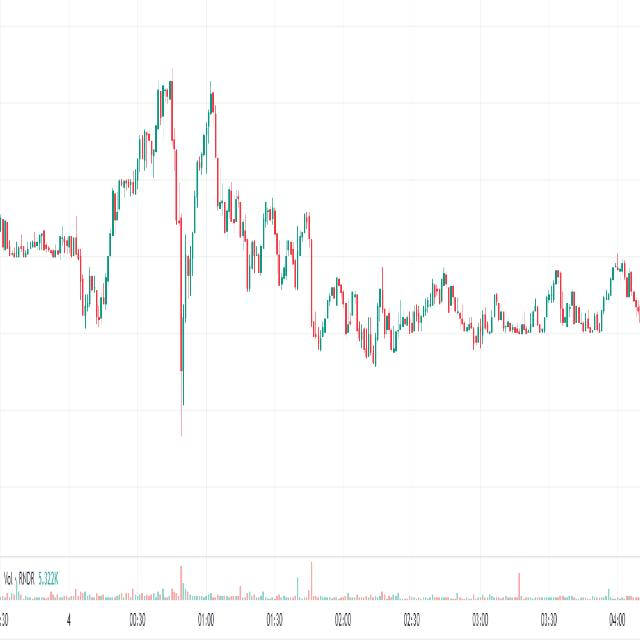Double-Bottom: (75, 244, 112, 339)
